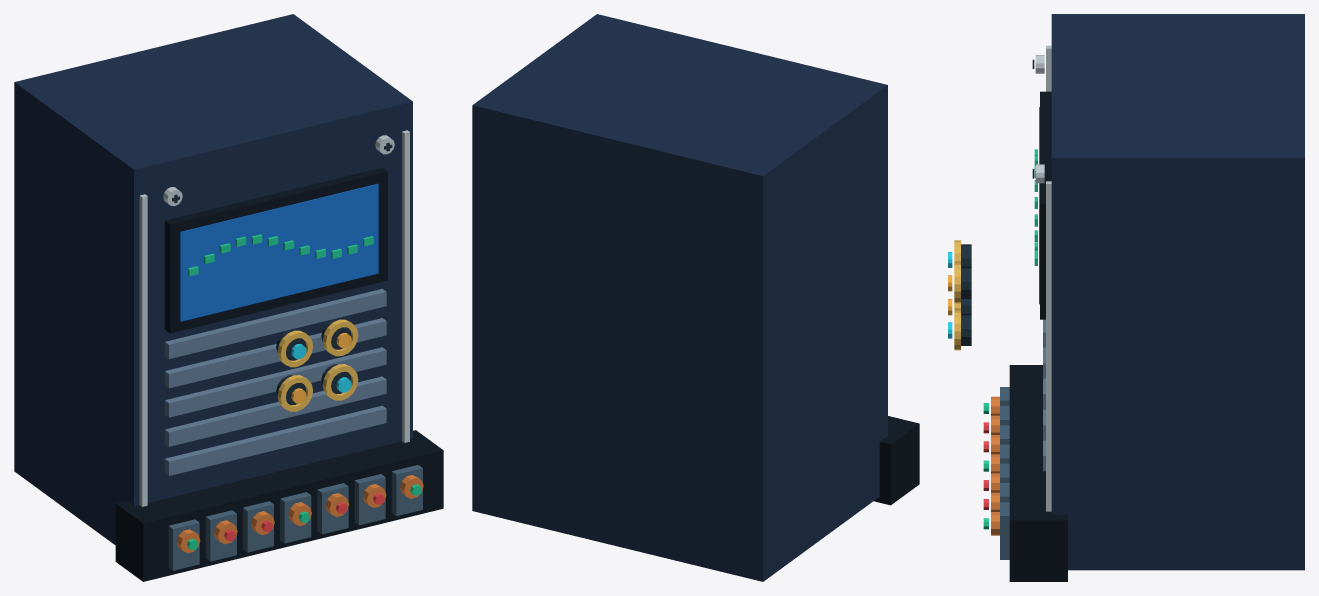
Rendered from 41_L83_BatteryBalancingCircuit.fbx.
3 renders of one model, left to right at view 1: azimuth 30°, elevation 25°; view 2: azimuth 150°, elevation 25°; view 3: azimuth 270°, elevation 25°, orthographic. The views are drawn at different scales.
Visible parts, largest first — view 1: BatteryBalancingCircuit; view 2: BatteryBalancingCircuit; view 3: BatteryBalancingCircuit.
Boxes of the visible parts, x1=… form: BatteryBalancingCircuit: x1=14, y1=14, x2=443, y2=581; BatteryBalancingCircuit: x1=472, y1=14, x2=919, y2=581; BatteryBalancingCircuit: x1=948, y1=14, x2=1304, y2=581.
Bounding box in the file's own units: 113 × 142 × 110.
